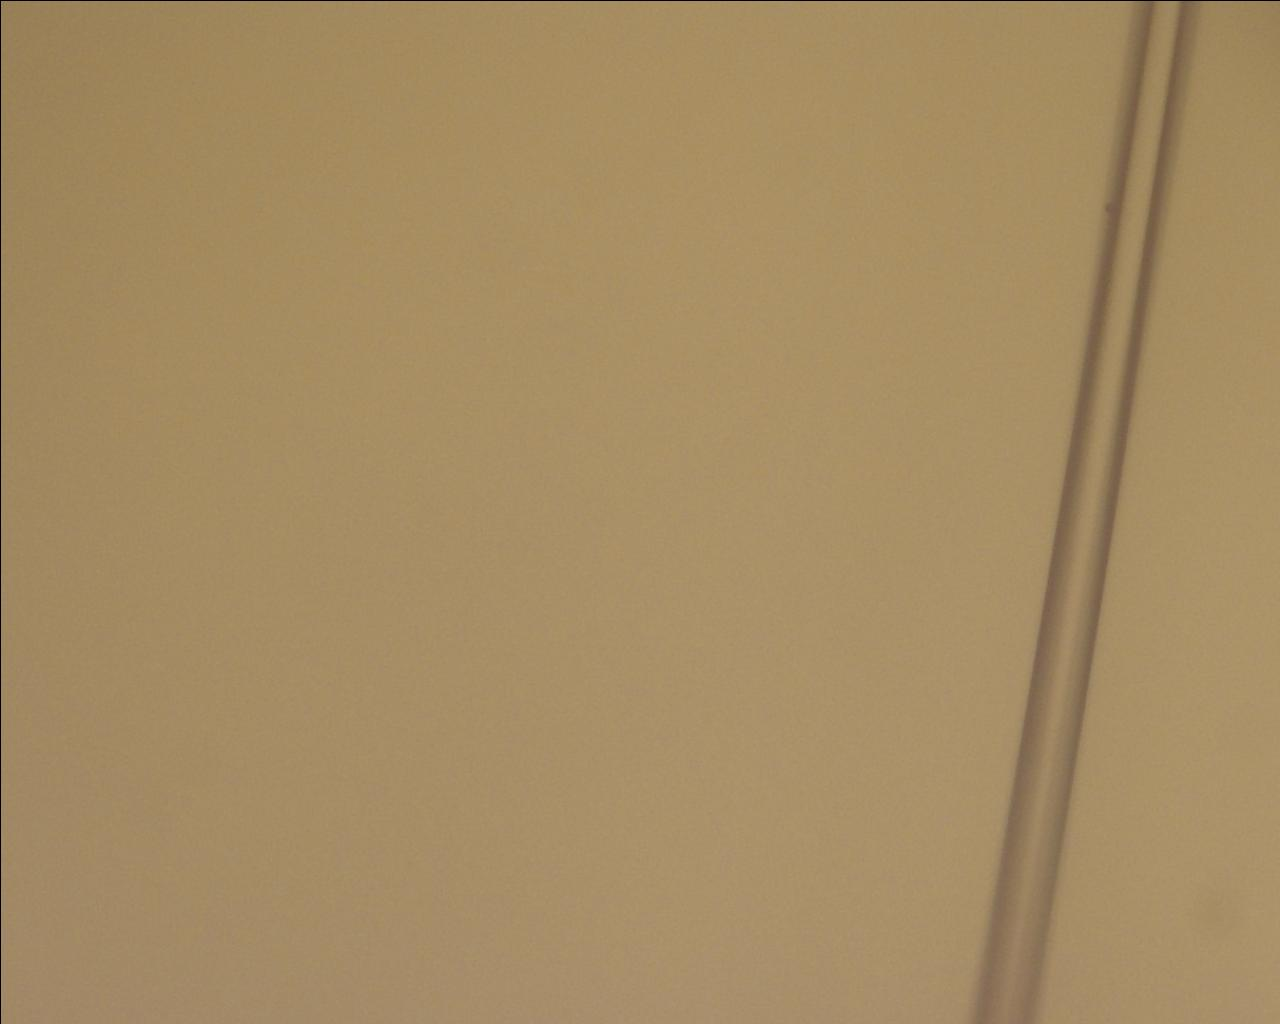fiber: (608, 430, 1010, 1024), (940, 0, 1101, 430), (380, 0, 483, 430)
